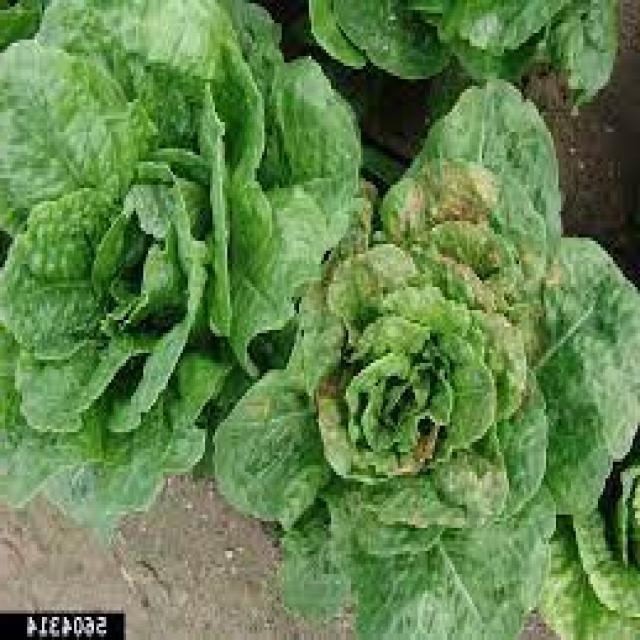Lettuce: (217, 77, 640, 635), (0, 0, 361, 519)
